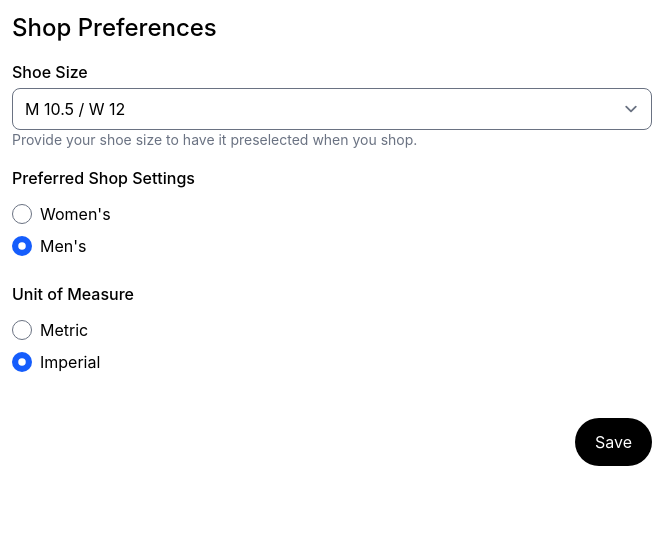
Scenario: shows a failure message when saving fails
Expected: the radio button labelled "Women's" is shown, [12, 204, 32, 224]
What coordinates should you click on to do the following:
click the button "Save"
I would click on:
 (614, 442)
Its box is [575, 418, 652, 466].
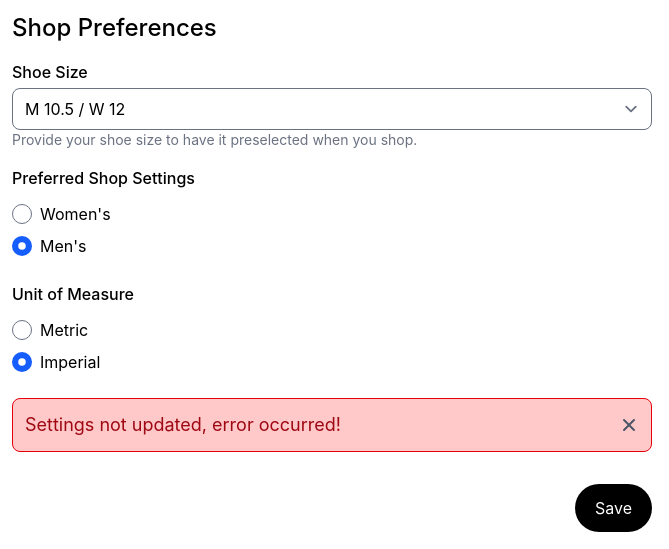
Expected: the message reads "Settings not updated, error occurred!", [25, 414, 341, 435]
